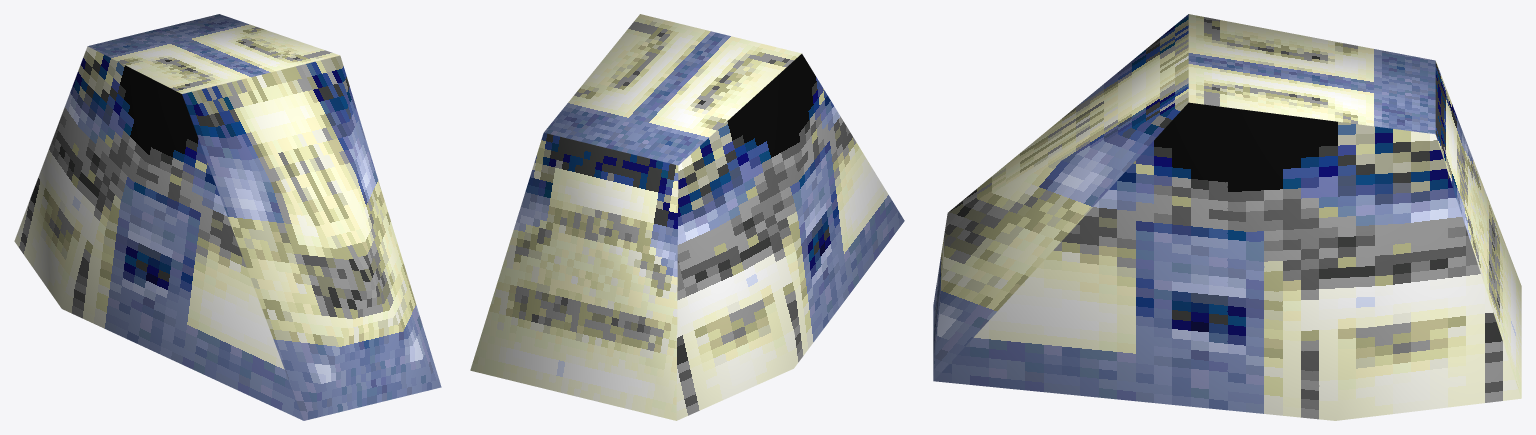
Rendered from MissileCarZ_Anim.glb.
3 renders of one model, left to right at view 1: azimuth 30°, elevation 25°; view 2: azimuth 150°, elevation 25°; view 3: azimuth 270°, elevation 25°, orthographic. The views are drawn at different scales.
Parts seen in each view (by area): view 1: MissileCarZ_Anim_part00; view 2: MissileCarZ_Anim_part00; view 3: MissileCarZ_Anim_part00.
Part boxes in pixels (bbox=[...]): MissileCarZ_Anim_part00: bbox=[14, 14, 441, 420]; MissileCarZ_Anim_part00: bbox=[470, 14, 904, 420]; MissileCarZ_Anim_part00: bbox=[933, 14, 1521, 420].
Bounding box in the file's own units: 6.08 × 5.23 × 9.8.
Materials: 4 (4 with a texture image).
